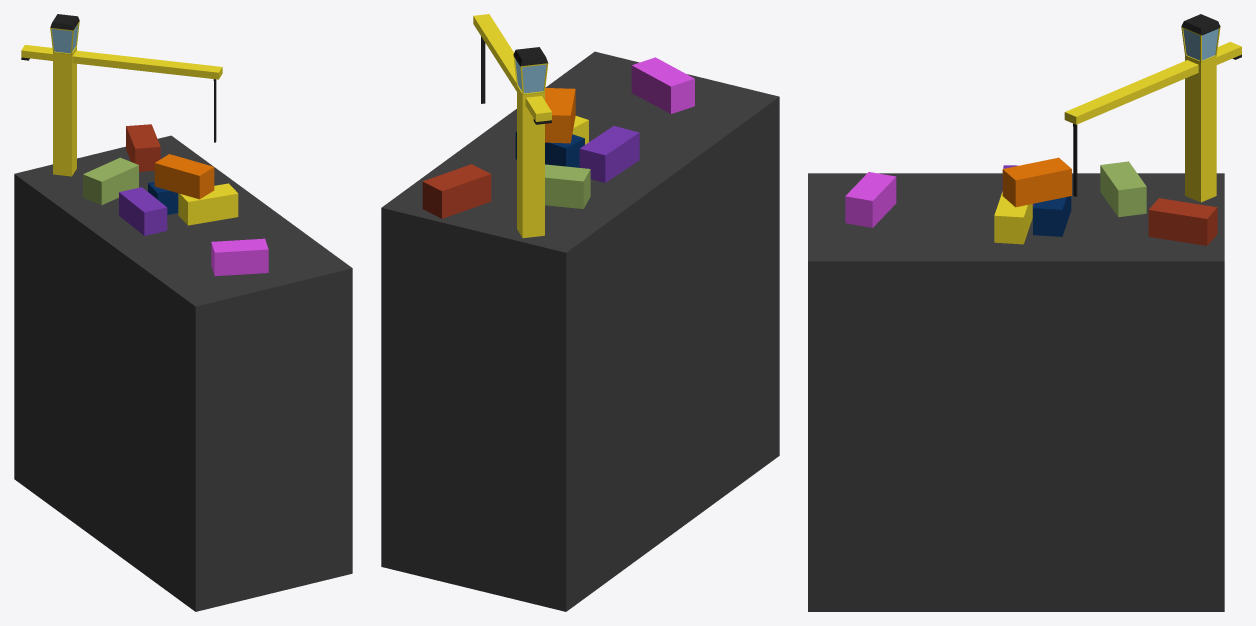
Rendered from Port.fbx.
3 renders of one model, left to right at view 1: azimuth 30°, elevation 25°; view 2: azimuth 150°, elevation 25°; view 3: azimuth 270°, elevation 25°, orthographic. The views are drawn at different scales.
Visible parts, largest first — view 1: Base, Port; view 2: Base, Port; view 3: Base, Port.
Boxes of the visible parts, bbox=[...] form: Base: bbox=[14, 221, 352, 611]; Port: bbox=[14, 14, 352, 353]; Base: bbox=[381, 152, 779, 611]; Port: bbox=[381, 14, 779, 307]; Base: bbox=[808, 315, 1224, 611]; Port: bbox=[808, 14, 1241, 315].
Bounding box in the file's own units: 146 × 195 × 70.
